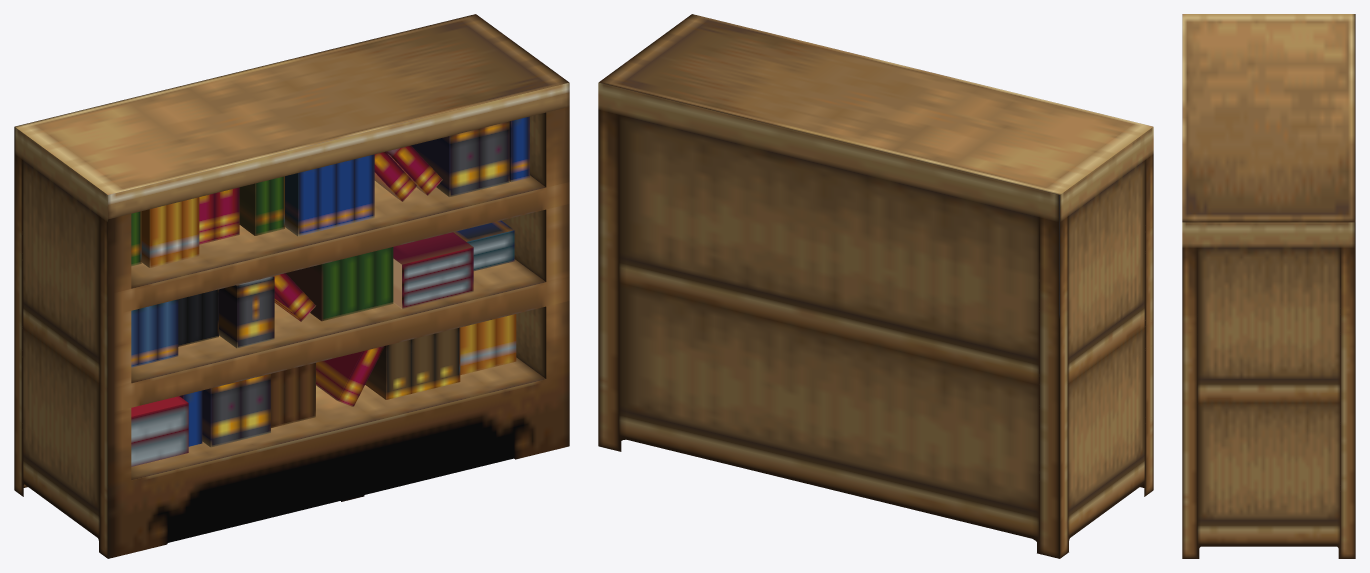
The model's file is Inside_Poly_Shelf_06.obj.
The picture shows the model from 3 angles, left to right: view 1: azimuth 30°, elevation 25°; view 2: azimuth 150°, elevation 25°; view 3: azimuth 270°, elevation 25°; orthographic projection. The views are drawn at different scales.
Parts seen in each view (by area): view 1: Cube; view 2: Cube; view 3: Cube.
Boxes of the visible parts, x1,y1,x2,y2 form: Cube: (14,14,569,558); Cube: (598,14,1153,558); Cube: (1182,14,1355,558).
Bounding box in the file's own units: 1.99 × 1.5 × 0.7.
Materials: 1 (1 with a texture image).
